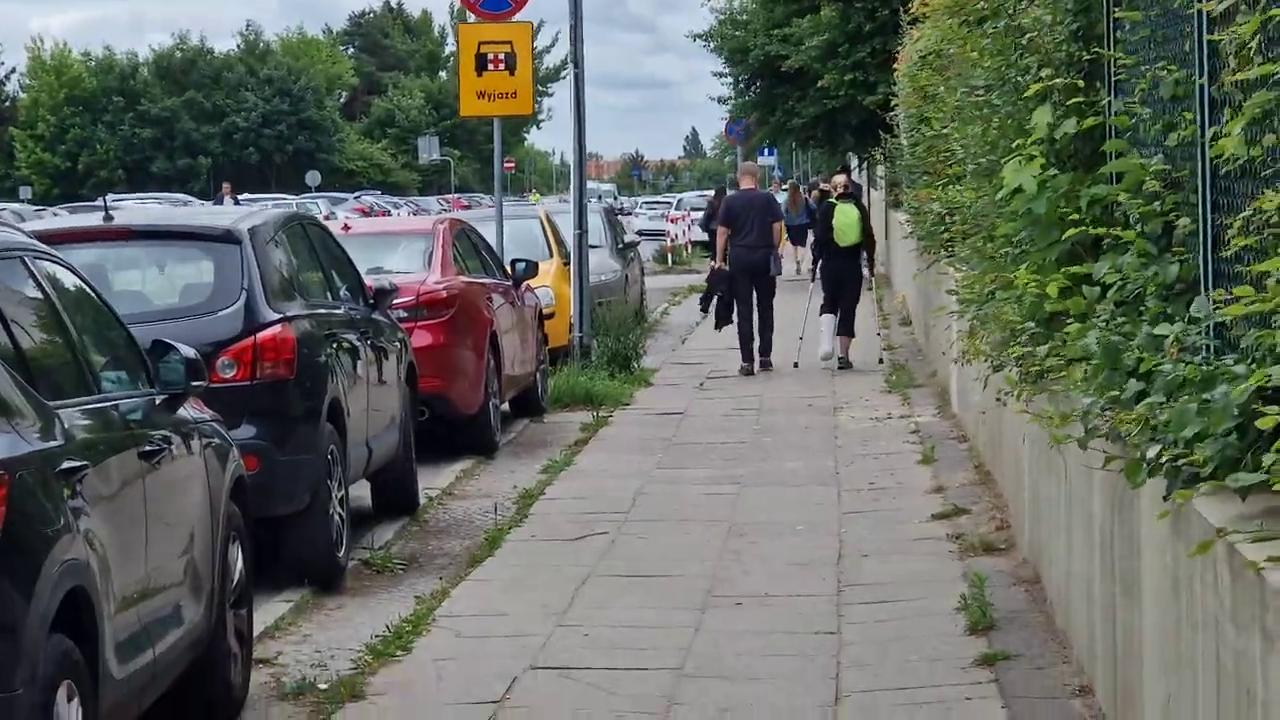crutches: (791, 175, 886, 370)
